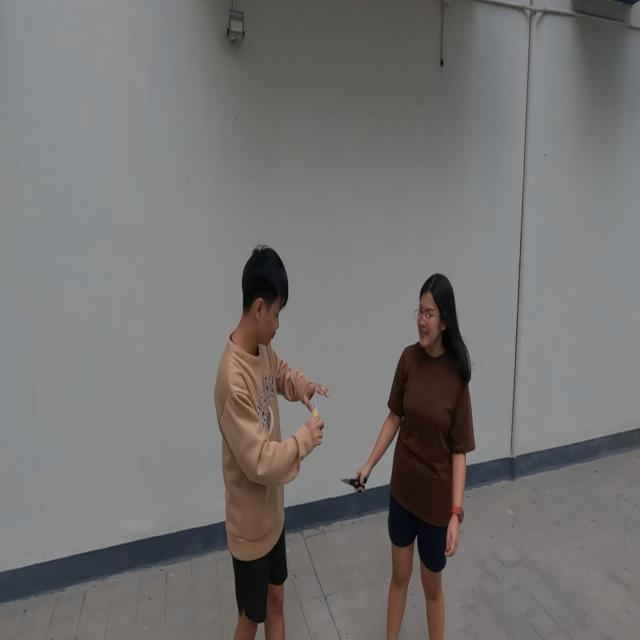scissor: (340, 475, 368, 494)
